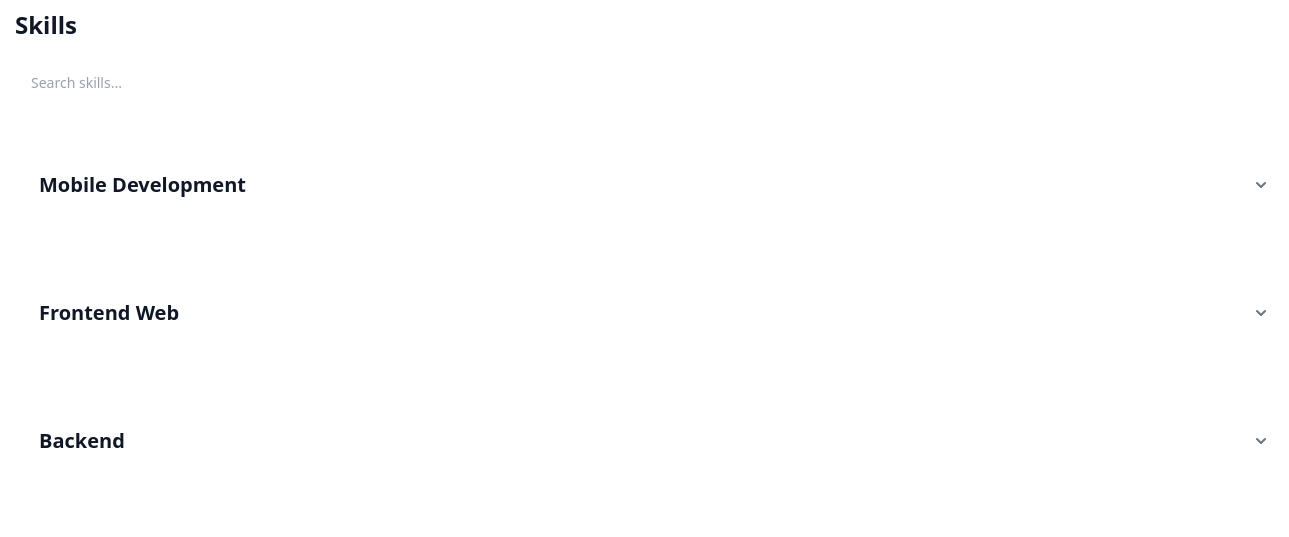
SkillsSection Component › toggles the card by clicking the title, reflecting state in aria-expanded
Step 1. Click the button "Mobile Development" → (142, 184), box [39,157,1271,213]
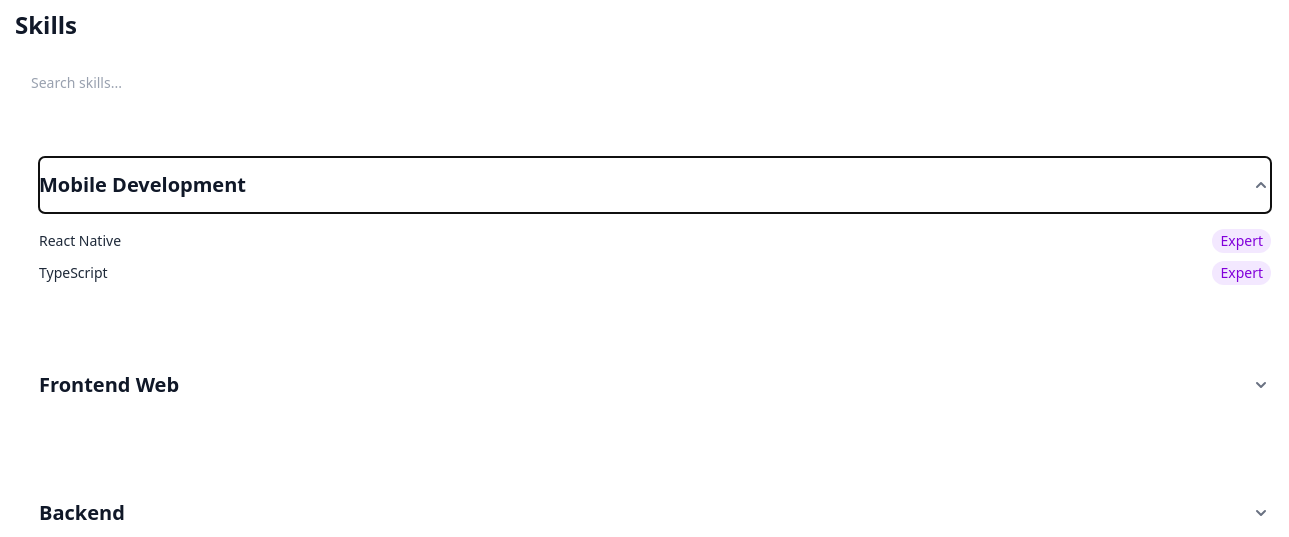
Expected: the button "Mobile Development" is expanded
Expected: the text "React Native" is shown, [39,231,121,251]
Step 2. Click the button "Mobile Development" → (142, 184), box [39,157,1271,213]
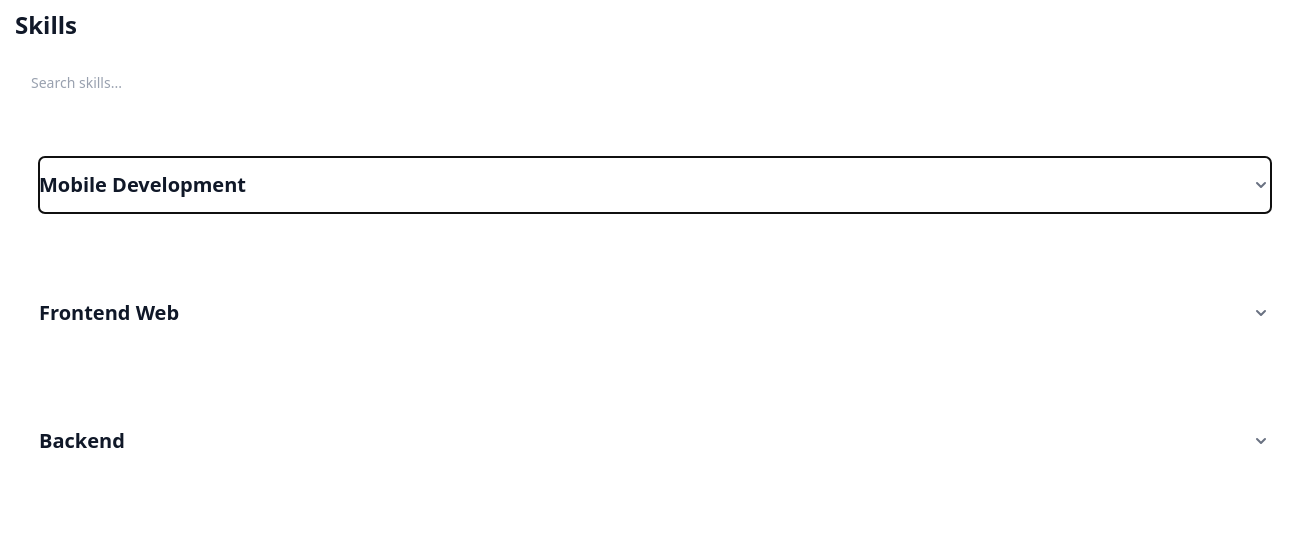
Expected: the button "Mobile Development" is collapsed, [39,157,1271,213]
Expected: the text "React Native" is gone
